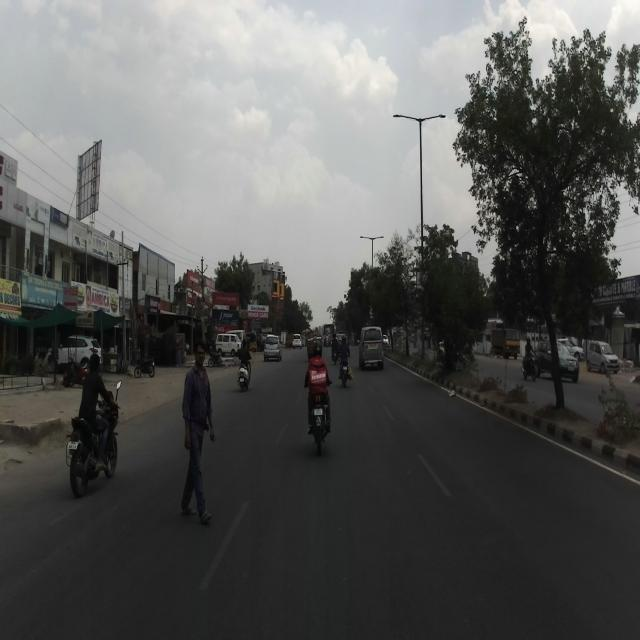car: (533, 336, 581, 378), (586, 338, 619, 376), (358, 326, 385, 369), (213, 332, 241, 356), (263, 334, 282, 362)
motorcycle: (65, 378, 123, 500), (306, 378, 332, 458), (521, 348, 537, 381)
scooter: (235, 350, 252, 390)
